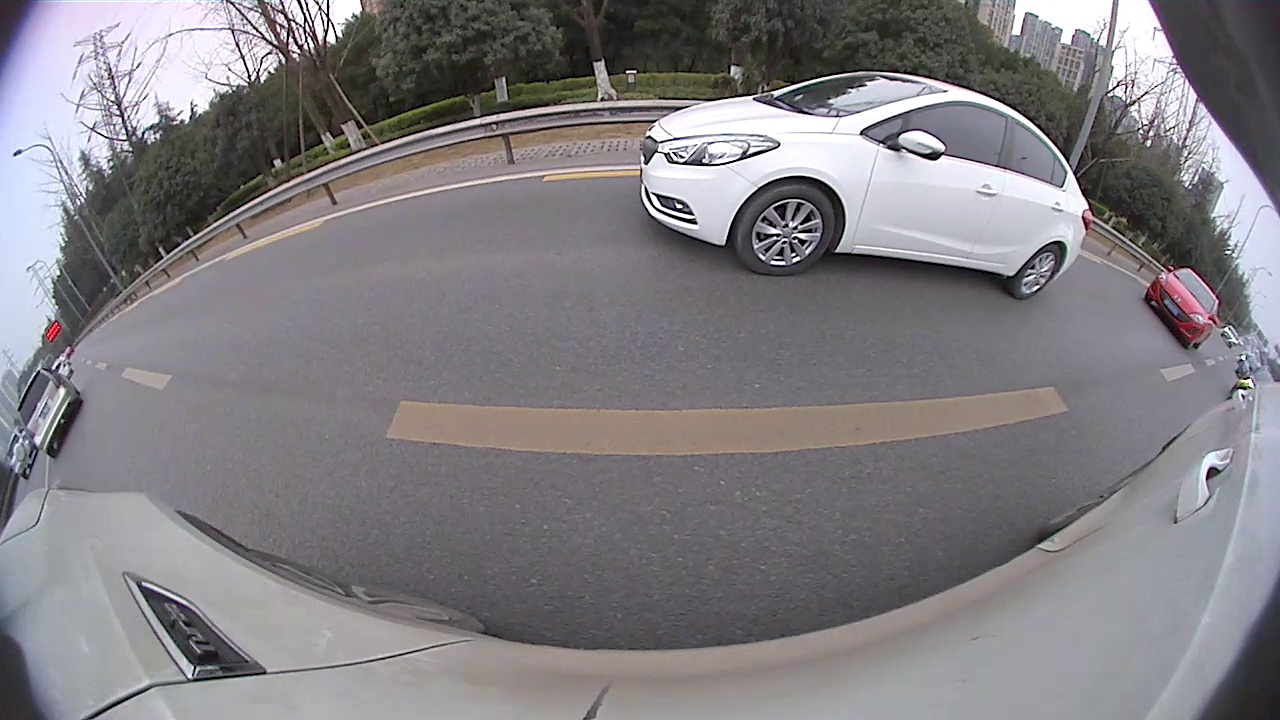car: (427, 165, 502, 214), (585, 141, 649, 197), (244, 204, 323, 237), (531, 159, 584, 194), (643, 151, 667, 182)
front: (490, 186, 502, 200)
rear: (467, 190, 480, 208)
